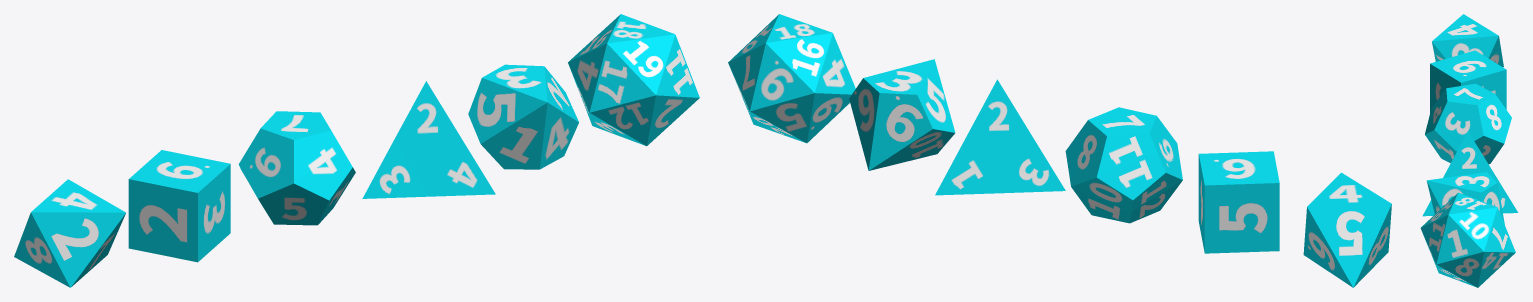
Rendered from Dice.glb.
The picture shows the model from 3 angles, left to right: view 1: azimuth 30°, elevation 25°; view 2: azimuth 150°, elevation 25°; view 3: azimuth 270°, elevation 25°; orthographic projection. The views are drawn at different scales.
Visible parts, largest first — view 1: D20, D6, D12, D10, D4, D8; view 2: D20, D12, D10, D6, D4, D8; view 3: D20, D12, D6, D8, D10, D4.
Boxes of the visible parts, x1,y1,x2,y2 form: D20: (568, 14, 699, 146); D6: (128, 150, 230, 262); D12: (238, 111, 355, 225); D10: (468, 64, 578, 169); D4: (362, 81, 495, 198); D8: (14, 179, 125, 287); D20: (728, 14, 855, 143); D12: (1065, 107, 1182, 223); D10: (849, 59, 955, 170); D6: (1198, 151, 1279, 253); D4: (935, 79, 1065, 195); D8: (1303, 172, 1391, 287); D20: (1420, 192, 1515, 287); D12: (1425, 83, 1511, 164); D6: (1430, 50, 1506, 112); D8: (1432, 14, 1503, 67); D10: (1426, 172, 1504, 224); D4: (1422, 131, 1518, 216).
Size of the model in its own units: 0.1597 by 0.0231 by 0.0284.
1 material, 1 textured.
